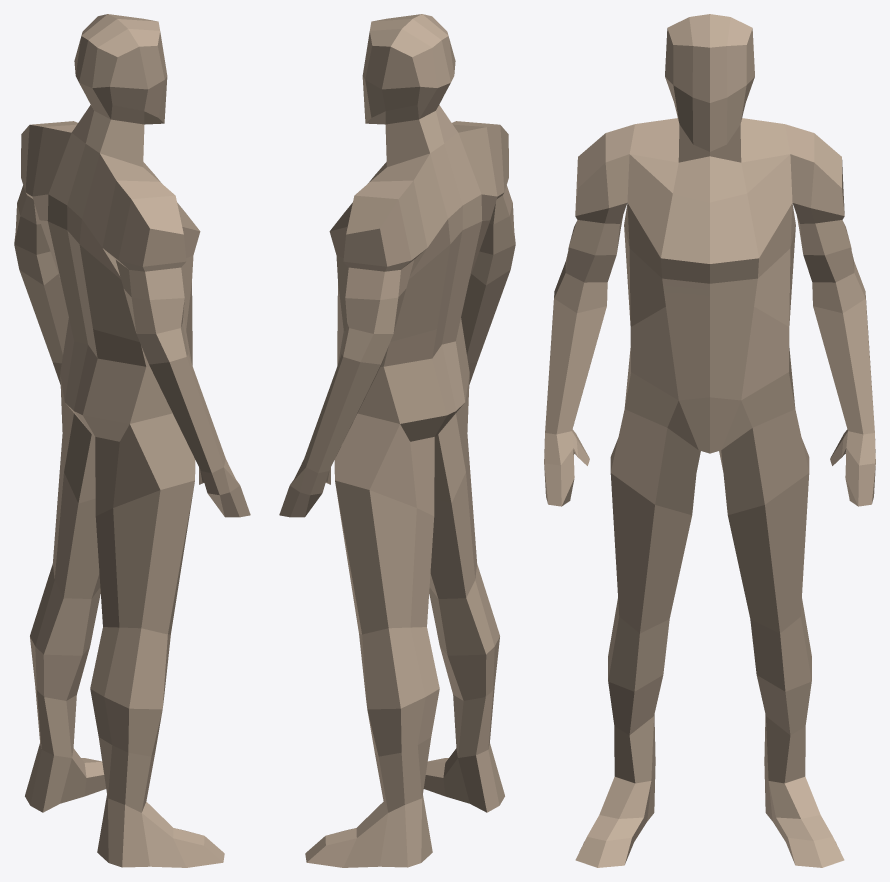
The model's file is High Soul.fbx.
3 renders of one model, left to right at view 1: azimuth 30°, elevation 25°; view 2: azimuth 150°, elevation 25°; view 3: azimuth 270°, elevation 25°, orthographic. The views are drawn at different scales.
Visible parts, largest first — view 1: Cube.010; view 2: Cube.010; view 3: Cube.010.
Part boxes in pixels (bbox=[...]): Cube.010: bbox=[14, 14, 250, 867]; Cube.010: bbox=[279, 14, 515, 867]; Cube.010: bbox=[544, 14, 875, 867].
Size of the model in its own units: 38.77 by 245 by 89.05.
